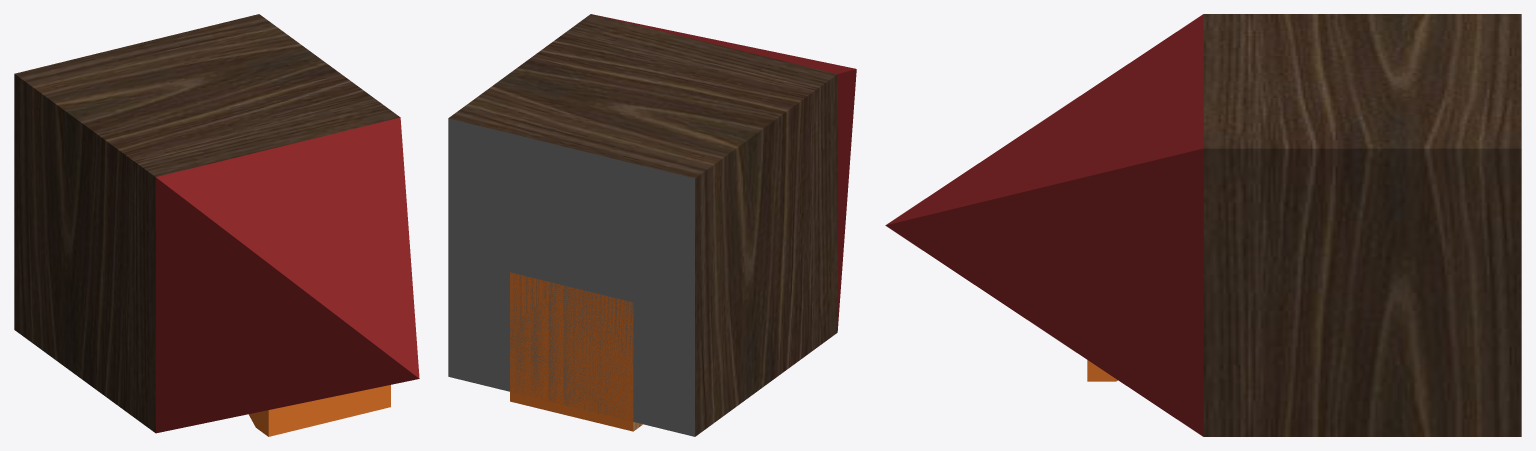
The model's file is Casa.obj.
3 renders of one model, left to right at view 1: azimuth 30°, elevation 25°; view 2: azimuth 150°, elevation 25°; view 3: azimuth 270°, elevation 25°, orthographic. The views are drawn at different scales.
Parts seen in each view (by area): view 1: Object.3, Object.2; view 2: Object.3, Object.1; view 3: Object.3.
Boxes of the visible parts, x1,y1,x2,y2 form: Object.3: [14, 14, 419, 433]; Object.2: [249, 385, 390, 436]; Object.3: [448, 14, 856, 436]; Object.1: [510, 272, 642, 431]; Object.3: [885, 14, 1521, 436].
Size of the model in its own units: 40 by 41.51 by 79.99.
Materials: 6 (2 with a texture image).
